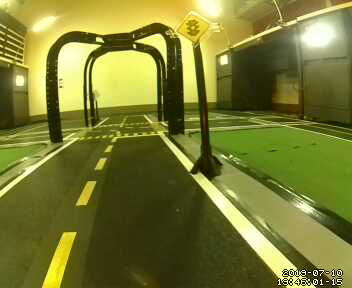Traffic light sign: (175, 12, 208, 44)
